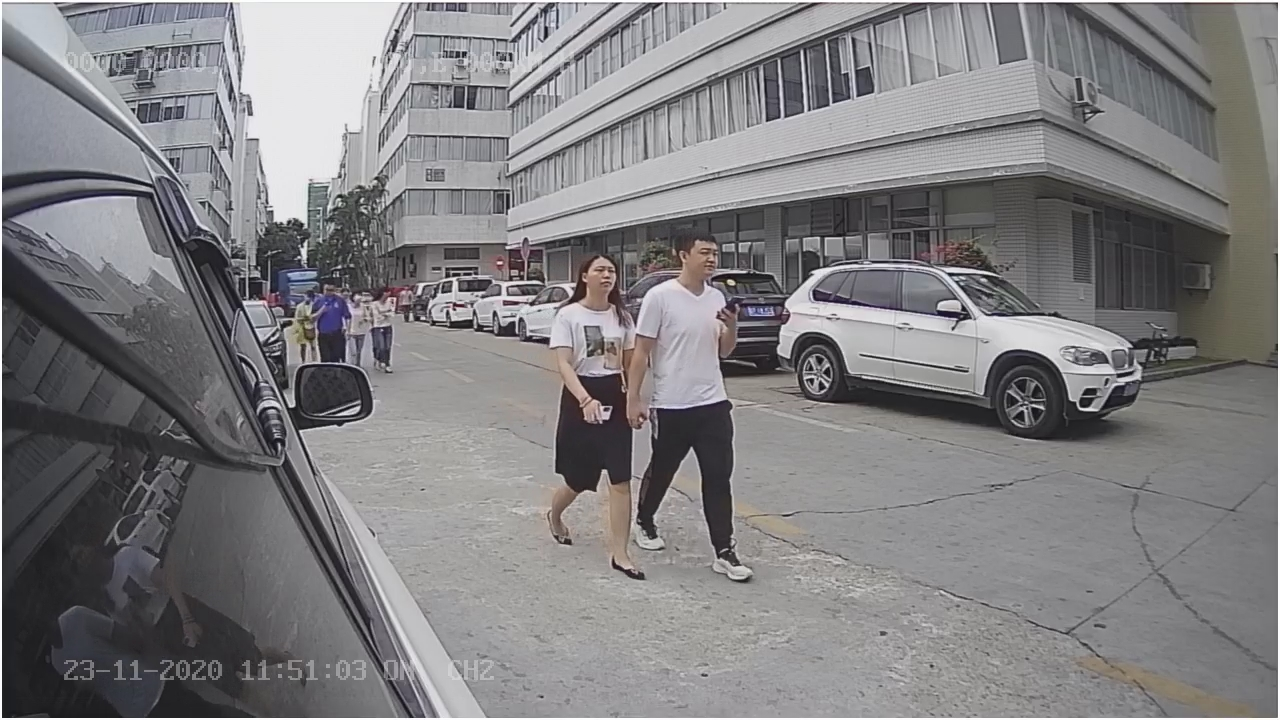person: (543, 246, 658, 585)
